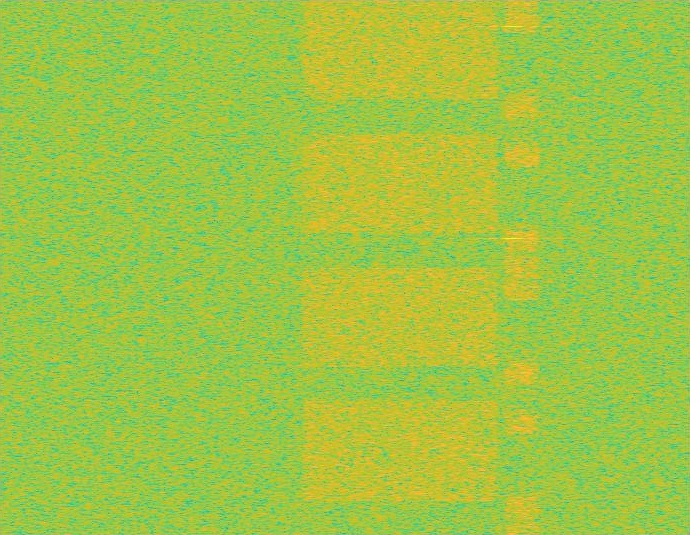5G: (297, 0, 504, 534)
LTE: (505, 0, 539, 534)
Radar: (506, 0, 520, 534)
